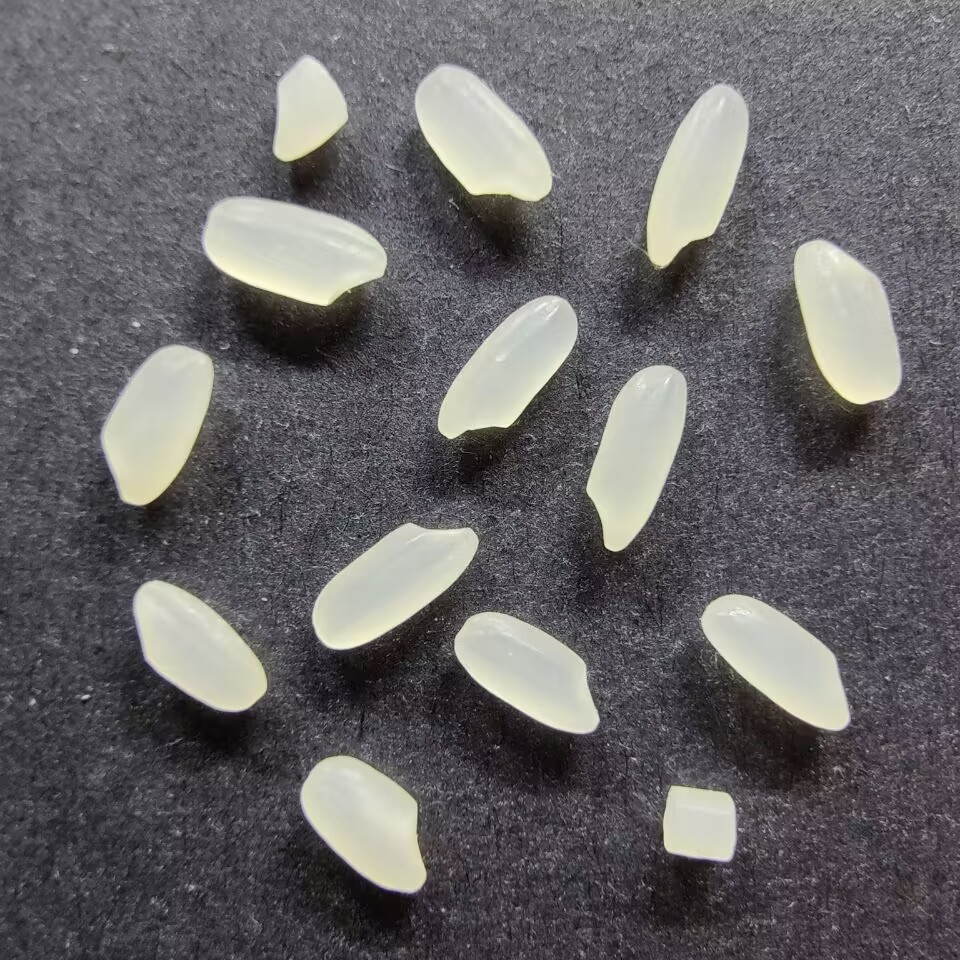broken: (269, 54, 351, 162), (659, 784, 737, 866)
rice: (311, 518, 479, 652), (700, 593, 852, 732), (436, 295, 580, 440), (202, 195, 388, 306), (583, 364, 689, 553), (645, 83, 751, 270), (413, 64, 552, 202), (99, 344, 216, 506), (791, 238, 904, 405), (453, 610, 600, 736), (131, 579, 268, 713), (299, 754, 429, 895)
